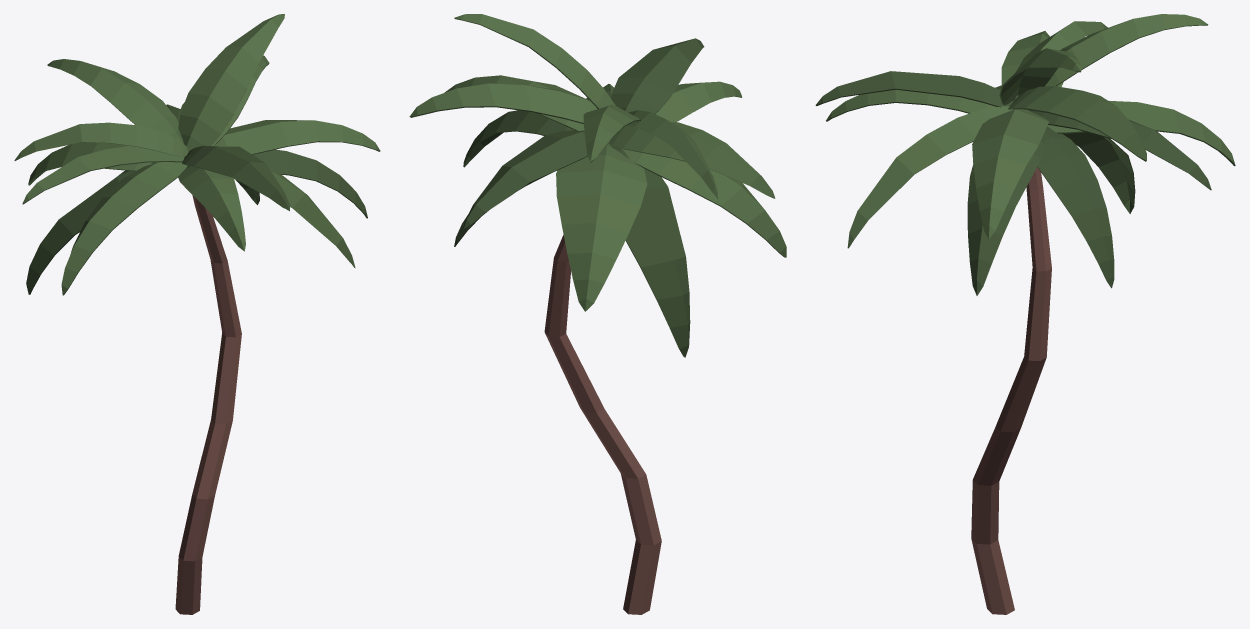
File: palmtree_1.013_lev1.glb
3 renders of one model, left to right at view 1: azimuth 30°, elevation 25°; view 2: azimuth 150°, elevation 25°; view 3: azimuth 270°, elevation 25°, orthographic. The views are drawn at different scales.
Visible parts, largest first — view 1: palmtree_1.013_lev1; view 2: palmtree_1.013_lev1; view 3: palmtree_1.013_lev1.
Part boxes in pixels (box(x1,y1,x2,y2)): palmtree_1.013_lev1: box(14, 14, 380, 614); palmtree_1.013_lev1: box(409, 14, 786, 614); palmtree_1.013_lev1: box(815, 14, 1235, 614).
Bounding box in the file's own units: 2.89 × 4.47 × 2.76.
